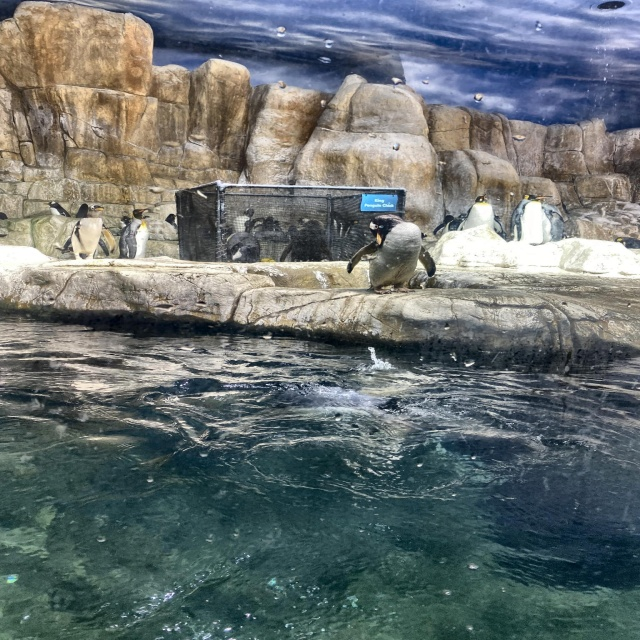penguin: (347, 215, 435, 293), (256, 382, 407, 420), (56, 205, 116, 258), (280, 216, 330, 262), (508, 193, 548, 246), (460, 196, 503, 243), (119, 208, 148, 257), (228, 232, 260, 260), (540, 205, 563, 242), (435, 215, 464, 234), (234, 208, 252, 231), (45, 201, 69, 218), (614, 235, 639, 249)
